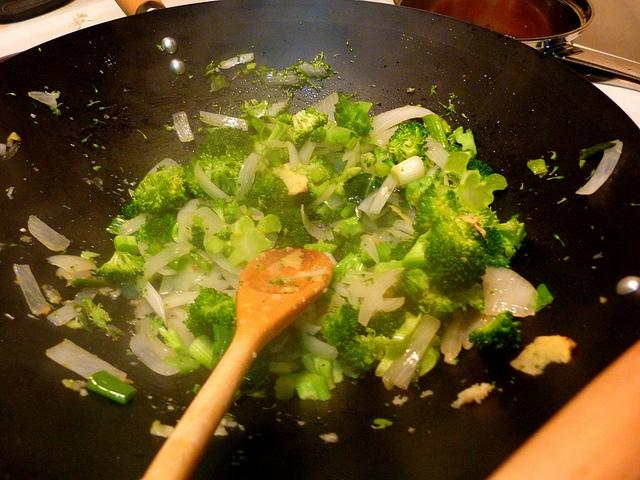broccoli: (402, 216, 486, 292), (182, 286, 236, 372), (413, 183, 470, 234), (132, 166, 190, 214), (280, 154, 362, 186), (336, 328, 390, 374), (238, 168, 290, 213), (324, 302, 376, 346), (469, 311, 522, 351), (264, 204, 312, 248), (386, 120, 430, 166), (200, 126, 254, 162), (334, 92, 373, 139), (96, 250, 146, 286), (285, 107, 329, 145), (138, 208, 179, 246), (368, 304, 409, 340), (333, 235, 362, 263), (312, 204, 342, 228), (242, 370, 270, 388), (240, 100, 268, 118), (468, 159, 494, 177), (380, 296, 404, 312), (374, 146, 387, 162)
green onion: (368, 106, 436, 138), (86, 370, 136, 405), (295, 373, 332, 401), (188, 334, 214, 372), (160, 327, 190, 356), (526, 159, 548, 178)
